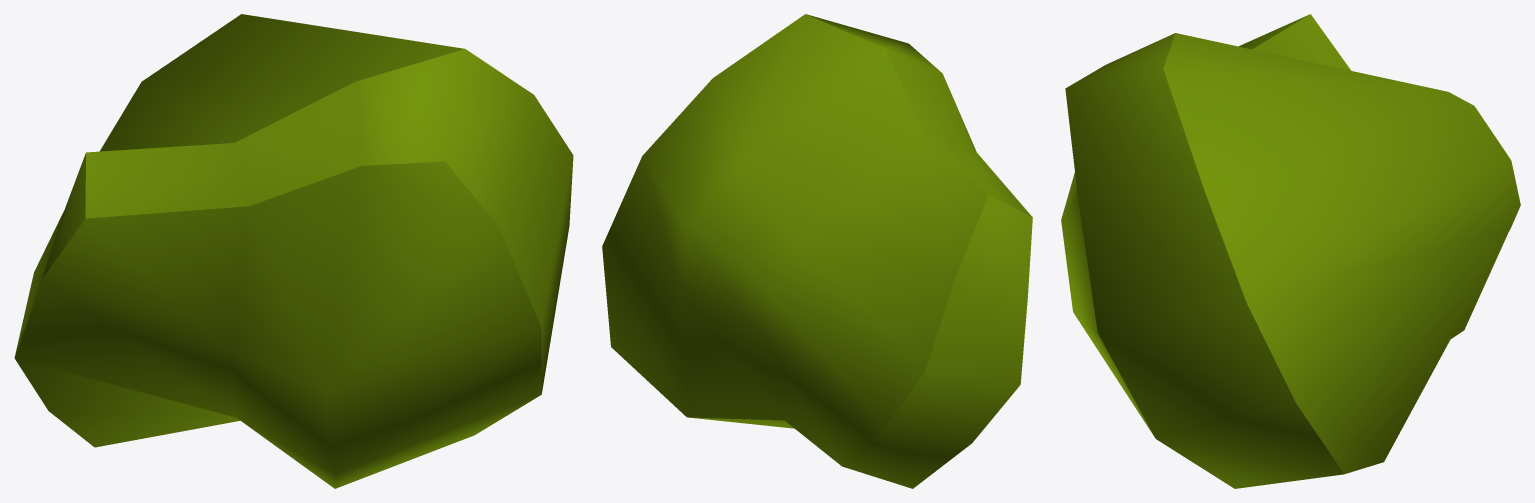
File: Rock02.fbx
3 renders of one model, left to right at view 1: azimuth 30°, elevation 25°; view 2: azimuth 150°, elevation 25°; view 3: azimuth 270°, elevation 25°, orthographic. The views are drawn at different scales.
Visible parts, largest first — view 1: Rock3; view 2: Rock3; view 3: Rock3.
Boxes of the visible parts, bbox=[...] form: Rock3: bbox=[14, 14, 573, 488]; Rock3: bbox=[602, 14, 1032, 488]; Rock3: bbox=[1061, 14, 1520, 488].
Size of the model in its own units: 2.46 by 1.92 by 1.98.
